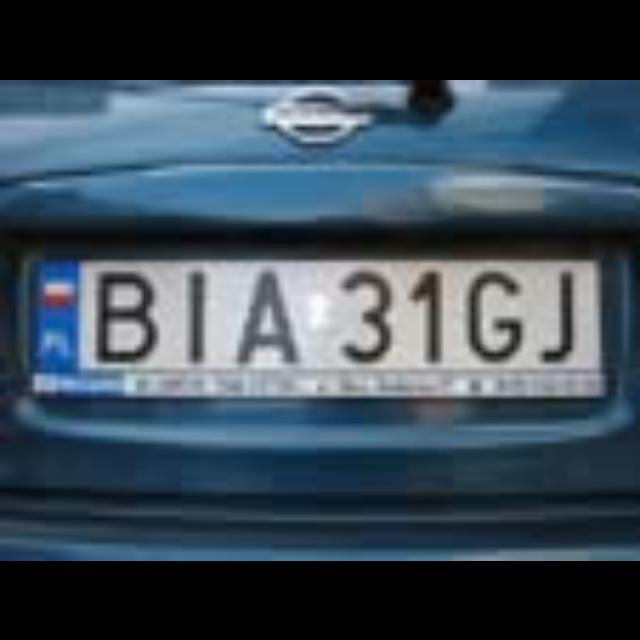pl_license_plate: (29, 250, 589, 362)
